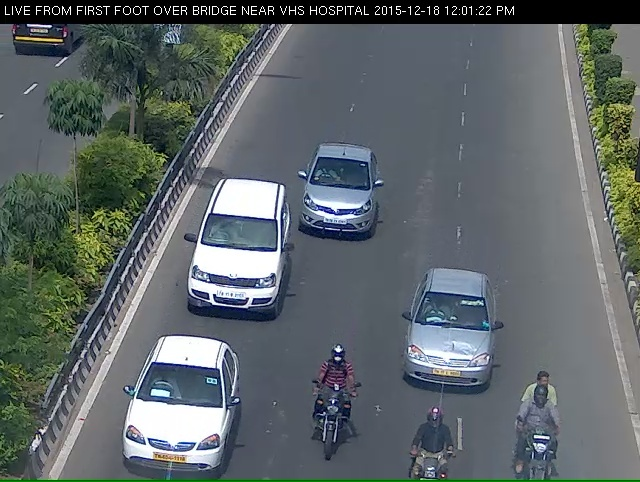Car: (181, 191, 276, 336), (104, 366, 226, 478), (402, 294, 498, 407), (297, 154, 379, 256)
Person: (301, 394, 351, 474), (521, 408, 564, 477)
